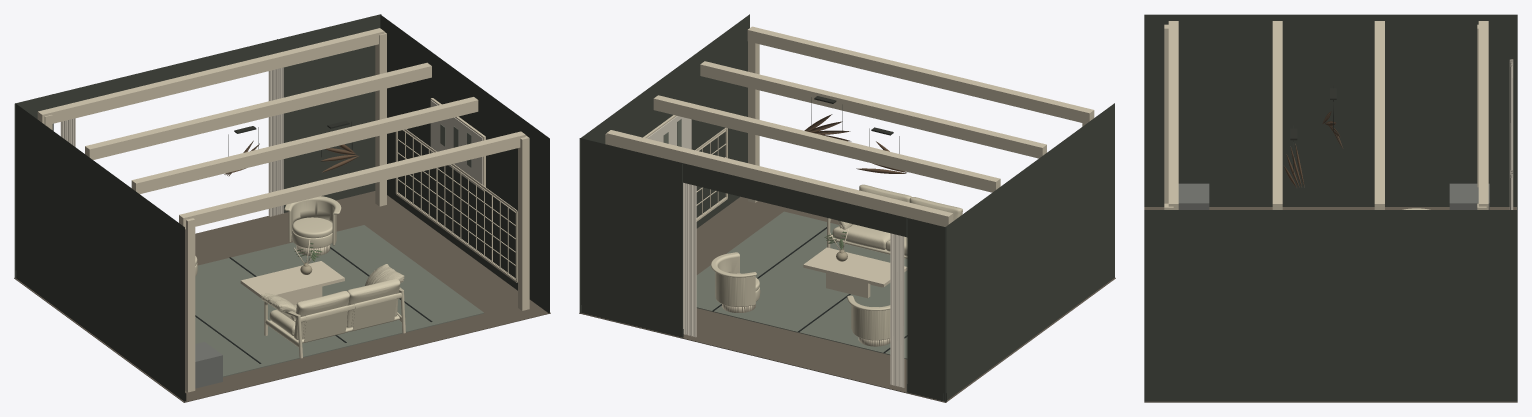
Rendered from great-3.glb.
3 renders of one model, left to right at view 1: azimuth 30°, elevation 25°; view 2: azimuth 150°, elevation 25°; view 3: azimuth 270°, elevation 25°, orthographic. The views are drawn at different scales.
Visible parts, largest first — view 1: DESIGN | great removable wall finish, DESIGN | Great room primary ground, DESIGN | great floor finish, DESIGN | Great room sofa facing conversation, DESIGN | Great room timber ceiling member.001, DESIGN | Great room timber ceiling member.002, DESIGN | Great room timber ceiling member.003, DESIGN | Great room timber ceiling member, DESIGN | Kumiko | Great room low craft datum, DESIGN | Required Bellustar swivel chair two, DESIGN | Great room conversation table top, DESIGN | Great room timber end post.002 (+5 smaller); view 2: DESIGN | great removable wall finish, DESIGN | Great room primary ground, DESIGN | great floor finish, DESIGN | Great room timber ceiling member.002, DESIGN | Great room timber ceiling member, DESIGN | Great room timber ceiling member.003, DESIGN | Great room timber ceiling member.001, DESIGN | Great room soft window edge, DESIGN | Great room sofa facing conversation, DESIGN | Required Bellustar swivel chair two, DESIGN | Great room soft window edge.001, DESIGN | Great room conversation table top (+5 smaller); view 3: DESIGN | great removable wall finish, DESIGN | Great room timber ceiling member.001, DESIGN | Great room timber ceiling member.002, DESIGN | Great room timber ceiling member, DESIGN | Great room timber ceiling member.003, DESIGN | great floor finish, DESIGN | Great room timber end post, DESIGN | Great room low stone display, DESIGN | Great room low stone display.001, DESIGN | Great room soft window edge, DESIGN | Required Flou pendant 2.
Part boxes in pixels (left/top/right/bottom): DESIGN | great removable wall finish: left=14, top=14, right=549, bottom=401; DESIGN | Great room primary ground: left=195, top=225, right=484, bottom=377; DESIGN | great floor finish: left=14, top=191, right=550, bottom=402; DESIGN | Great room sofa facing conversation: left=260, top=264, right=405, bottom=358; DESIGN | Great room timber ceiling member.001: left=131, top=97, right=478, bottom=193; DESIGN | Great room timber ceiling member.002: left=85, top=62, right=431, bottom=159; DESIGN | Great room timber ceiling member.003: left=37, top=28, right=384, bottom=124; DESIGN | Great room timber ceiling member: left=179, top=131, right=525, bottom=229; DESIGN | Kumiko | Great room low craft datum: left=395, top=129, right=517, bottom=282; DESIGN | Required Bellustar swivel chair two: left=284, top=196, right=341, bottom=255; DESIGN | Great room conversation table top: left=240, top=261, right=344, bottom=297; DESIGN | Great room timber end post.002: left=518, top=135, right=529, bottom=310; DESIGN | great removable wall finish: left=579, top=14, right=1114, bottom=401; DESIGN | Great room primary ground: left=696, top=211, right=907, bottom=359; DESIGN | great floor finish: left=579, top=196, right=1115, bottom=402; DESIGN | Great room timber ceiling member.002: left=653, top=95, right=1000, bottom=192; DESIGN | Great room timber ceiling member: left=747, top=26, right=1094, bottom=123; DESIGN | Great room timber ceiling member.003: left=606, top=130, right=953, bottom=226; DESIGN | Great room timber ceiling member.001: left=700, top=61, right=1046, bottom=158; DESIGN | Great room soft window edge: left=890, top=233, right=904, bottom=387; DESIGN | Great room sofa facing conversation: left=827, top=184, right=962, bottom=258; DESIGN | Required Bellustar swivel chair two: left=711, top=252, right=760, bottom=312; DESIGN | Great room soft window edge.001: left=683, top=182, right=696, bottom=337; DESIGN | Great room conversation table top: left=803, top=247, right=907, bottom=287; DESIGN | great removable wall finish: left=1144, top=14, right=1517, bottom=401; DESIGN | Great room timber ceiling member.001: left=1272, top=21, right=1282, bottom=209; DESIGN | Great room timber ceiling member.002: left=1374, top=21, right=1384, bottom=209; DESIGN | Great room timber ceiling member: left=1168, top=21, right=1178, bottom=209; DESIGN | Great room timber ceiling member.003: left=1478, top=21, right=1488, bottom=209; DESIGN | great floor finish: left=1144, top=207, right=1517, bottom=402; DESIGN | Great room timber end post: left=1164, top=24, right=1168, bottom=203; DESIGN | Great room low stone display: left=1178, top=183, right=1209, bottom=209; DESIGN | Great room low stone display.001: left=1449, top=183, right=1489, bottom=209; DESIGN | Great room soft window edge: left=1509, top=59, right=1513, bottom=170; DESIGN | Required Flou pendant 2: left=1284, top=143, right=1304, bottom=187.
Size of the model in its own units: 6 by 2.74 by 4.82.
